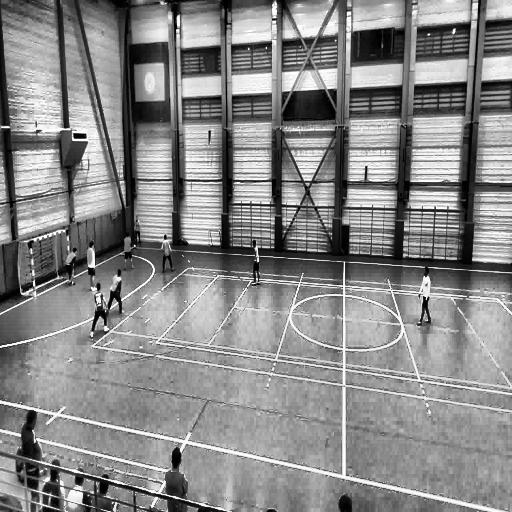ball: (134, 244, 137, 250)
player: (91, 284, 110, 340), (106, 269, 123, 318), (416, 267, 430, 326), (160, 233, 174, 272), (87, 242, 98, 290), (65, 248, 77, 286), (251, 238, 260, 283), (124, 232, 133, 269), (133, 214, 142, 250)
